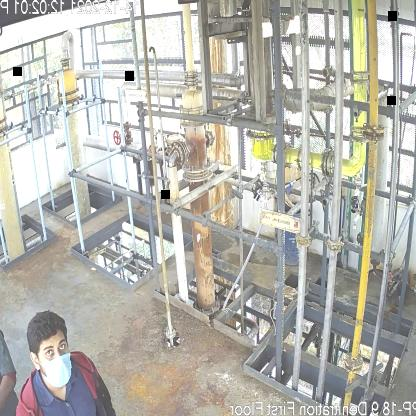no_goggles: (43, 338, 70, 358)
